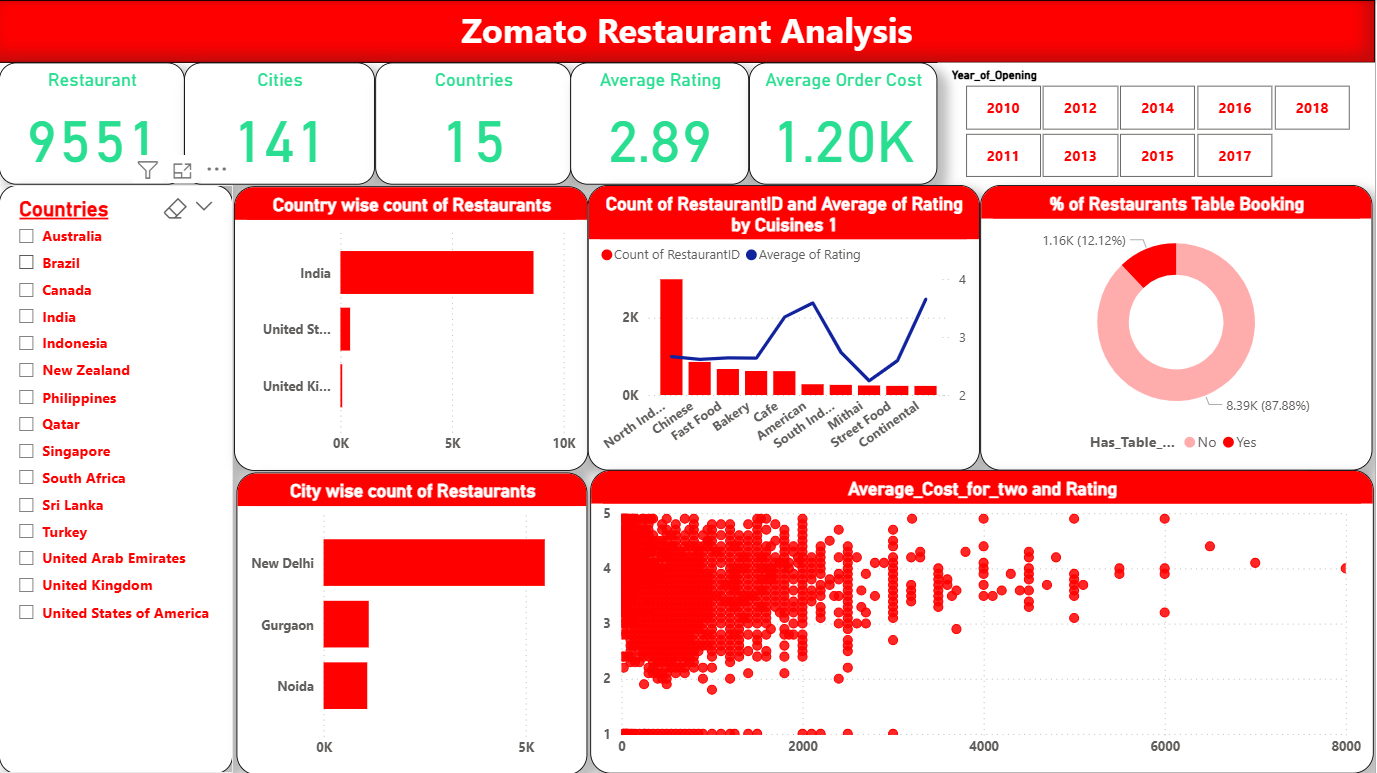

The dashboard page shown, as its layout file describes it:
{"tool":"powerbi","page":{"name":"Page 1","canvas":[1280,720],"ordinal":0},"visuals":[{"type":"textbox","box":[0,0,1280.3,58.7],"z":0},{"type":"card","title":"Restaurant","fields":{"Values":["CountNonNull(Zomato.RestaurantID)"]},"box":[0,58.7,172.4,113.7],"z":1000},{"type":"card","title":"Cities","fields":{"Values":["Count(Zomato.City)"]},"box":[172.4,58.7,177.3,113.7],"z":2000},{"type":"card","title":"Countries","fields":{"Values":["Count(Zomato.Country)"]},"box":[349.7,58.7,182.2,113.7],"z":3000},{"type":"slicer","fields":{"Values":["Zomato.Year_of_Opening"]},"box":[873.1,58.7,407.2,113.7],"z":4000},{"type":"slicer","fields":{"Values":["Zomato.Country"]},"box":[0,172.4,217.7,547.8],"z":5000},{"type":"card","title":"Average Rating","fields":{"Values":["Avg(Zomato.Rating)"]},"box":[531.9,58.7,166.3,113.7],"z":6000},{"type":"card","title":"Average Order Cost","fields":{"Values":["Avg(Zomato.Average_Cost_for_two)"]},"box":[698.2,58.7,174.9,113.7],"z":7000},{"type":"barChart","title":"Country wise count of Restaurants","fields":{"Category":["Zomato.Country"],"Y":["CountNonNull(Zomato.RestaurantID)"]},"box":[218.2,172.9,329.6,264.8],"z":8000},{"type":"barChart","title":"City wise count of Restaurants","fields":{"Category":["Zomato.City"],"Y":["CountNonNull(Zomato.RestaurantID)"]},"box":[220.9,439.1,326.6,281.3],"z":9000},{"type":"lineStackedColumnComboChart","fields":{"Category":["Zomato.Cuisines 1"],"Y":["CountNonNull(Zomato.RestaurantID)"],"Y2":["Avg(Zomato.Rating)"]},"box":[547.8,172.4,364.4,265.4],"z":10000},{"type":"donutChart","title":"% of Restaurants Table Booking","fields":{"Y":["CountNonNull(Zomato.RestaurantID)"],"Category":["Zomato.Has_Table_booking"]},"box":[912.2,172.4,364.4,265.4],"z":11000},{"type":"scatterChart","fields":{"X":["Zomato.Average_Cost_for_two"],"Y":["Zomato.Rating"]},"box":[550.3,437.8,728.8,282.5],"z":12000}]}

Visuals, with their boxes in screenshot pixels (x1, y1, x2, y2), scaled from the page's 1280x720 canvas onto the 1377x773 screenshot:
textbox: 0, 0, 1376, 63
"Restaurant" card: 0, 63, 185, 185
"Cities" card: 185, 63, 376, 185
"Countries" card: 376, 63, 572, 185
slicer - Zomato.Year_of_Opening: 939, 63, 1376, 185
slicer - Zomato.Country: 0, 185, 234, 772
"Average Rating" card: 572, 63, 751, 185
"Average Order Cost" card: 751, 63, 939, 185
"Country wise count of Restaurants" barChart: 235, 186, 589, 470
"City wise count of Restaurants" barChart: 238, 471, 589, 772
lineStackedColumnComboChart - Zomato.Cuisines 1 x CountNonNull(Zomato.RestaurantID): 589, 185, 981, 470
"% of Restaurants Table Booking" donutChart: 981, 185, 1373, 470
scatterChart - Zomato.Average_Cost_for_two x Zomato.Rating: 592, 470, 1376, 772
